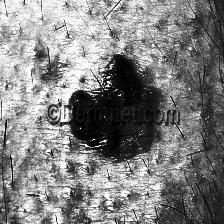Benign Marking or Mole: (67, 59, 160, 159)
